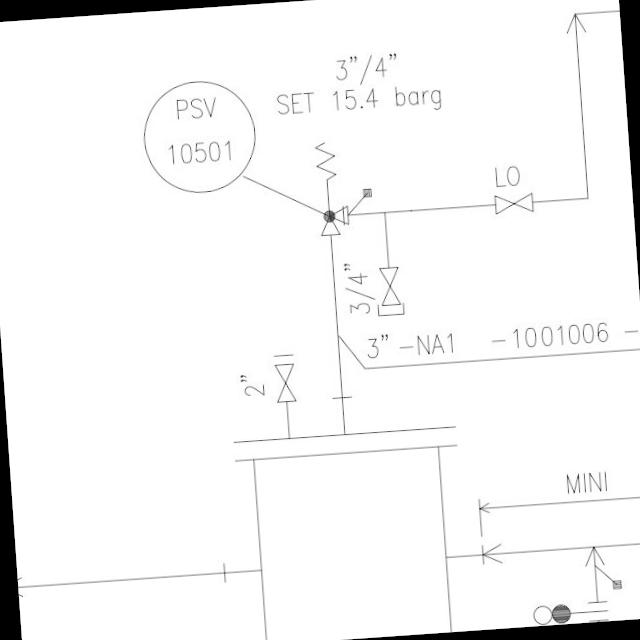EC: (370, 244, 409, 320)
GV: (270, 359, 300, 409), (490, 189, 538, 217), (375, 264, 400, 306)
RPV: (310, 134, 354, 244)
